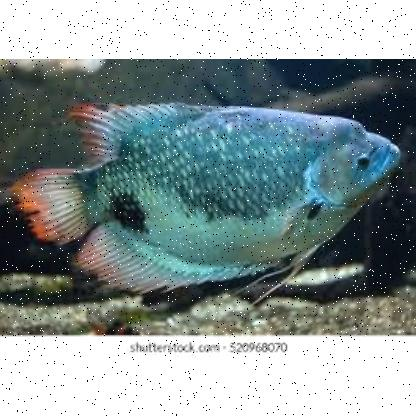gurame: (16, 96, 402, 290)
